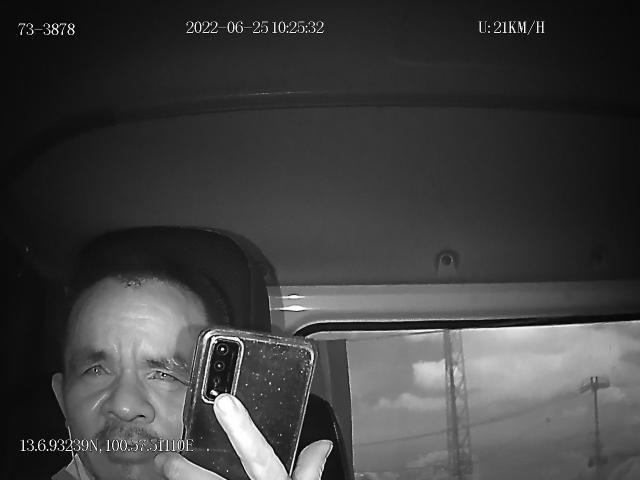PhoneUse: (180, 326, 318, 480)
SafeDriving: (140, 354, 188, 394), (74, 350, 118, 386)
